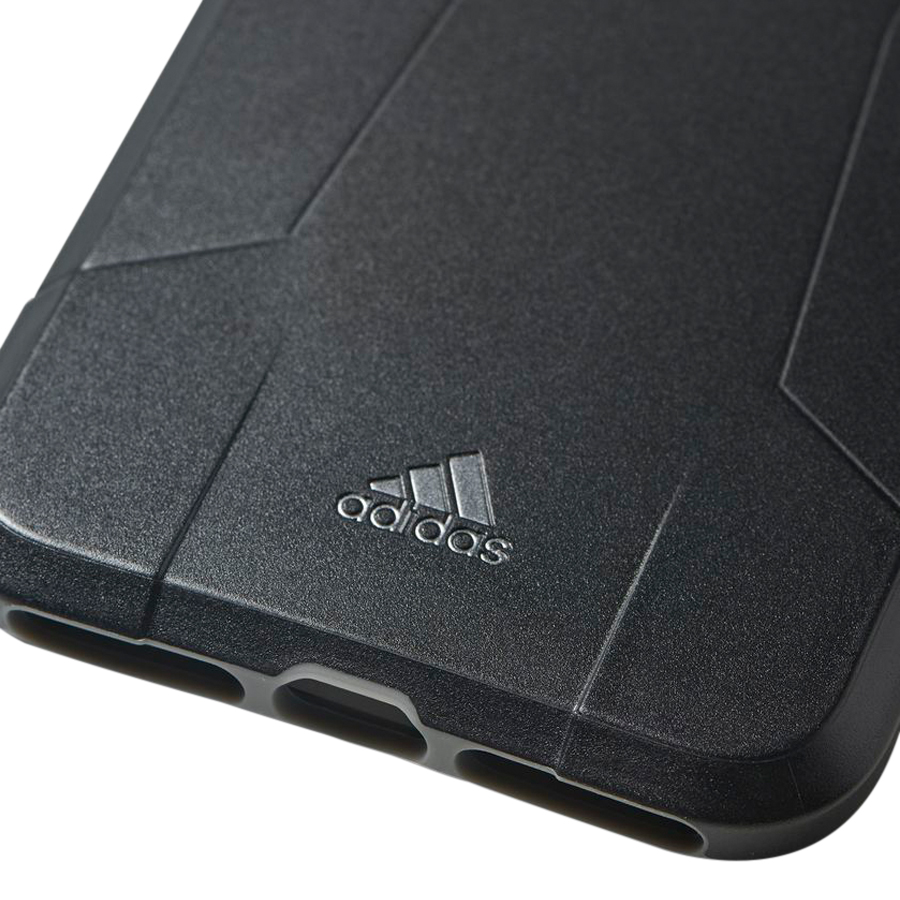Adidas: (325, 426, 530, 575)
